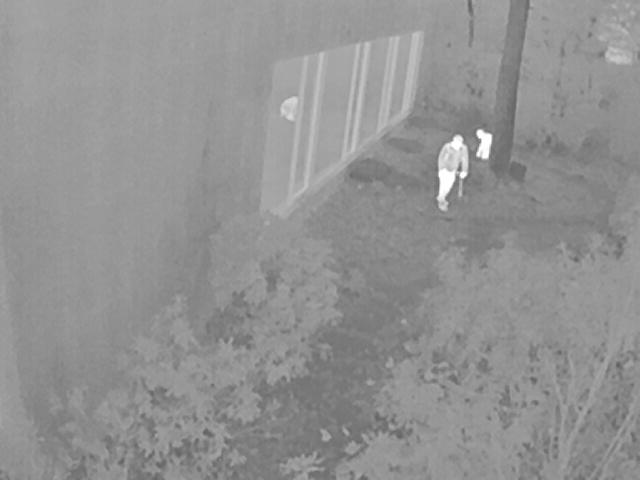person: (438, 135, 469, 204), (477, 127, 496, 156)
